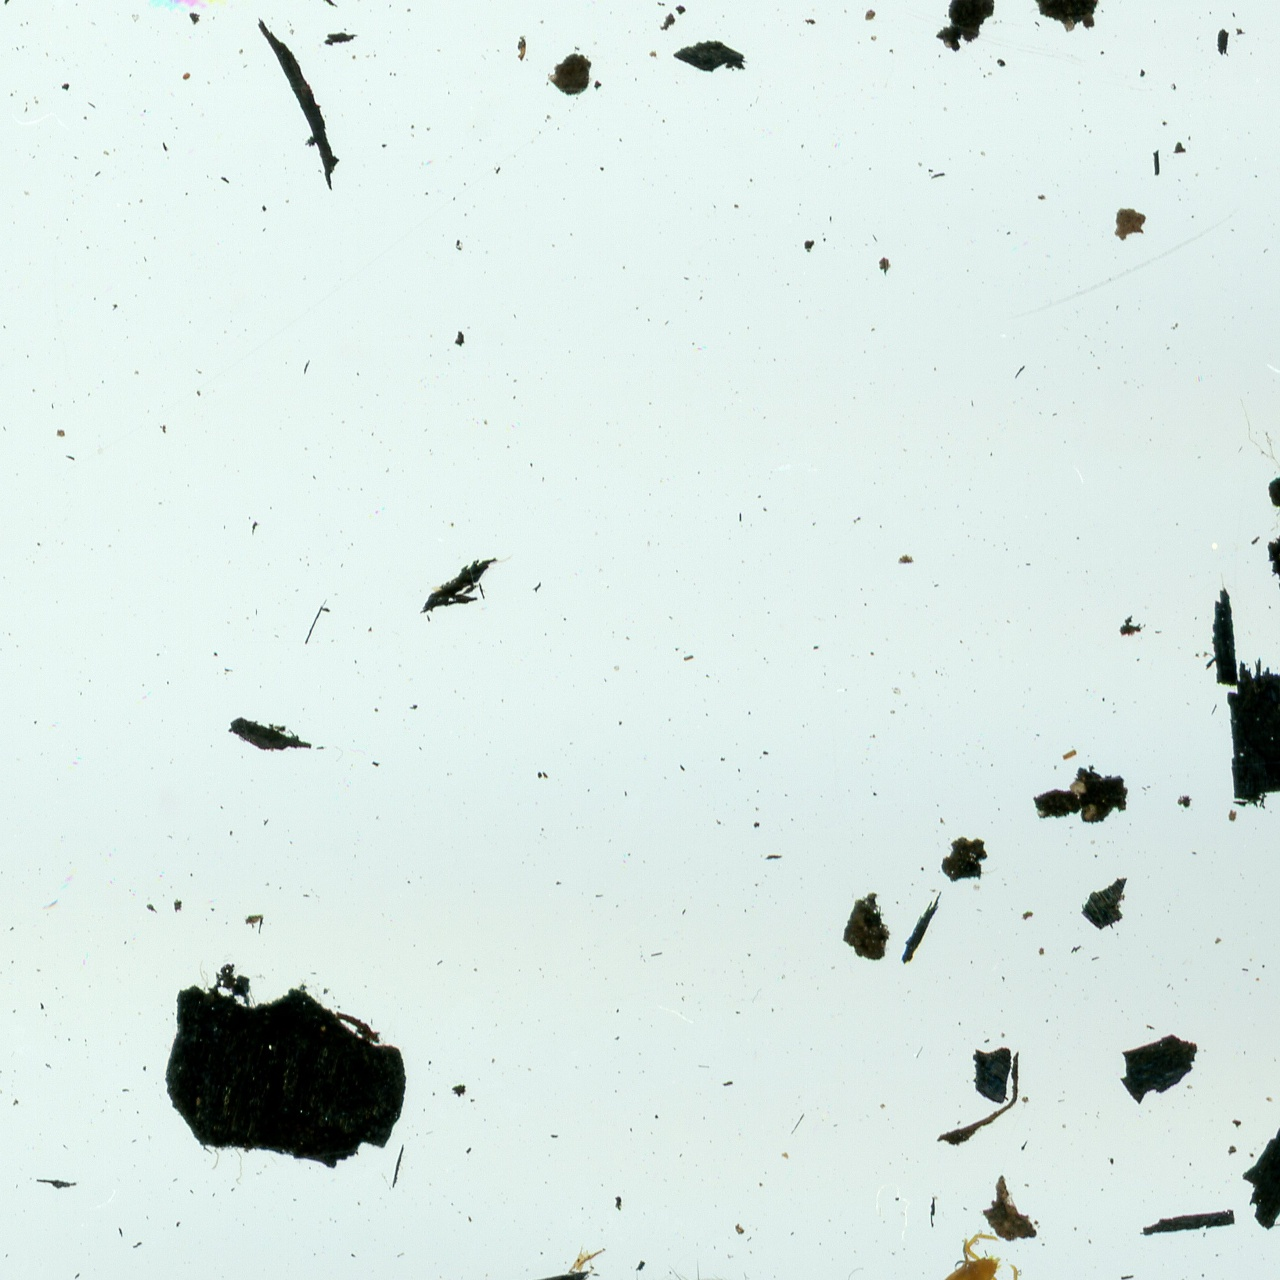arthropod: (933, 1230, 1023, 1280), (95, 0, 253, 13)
